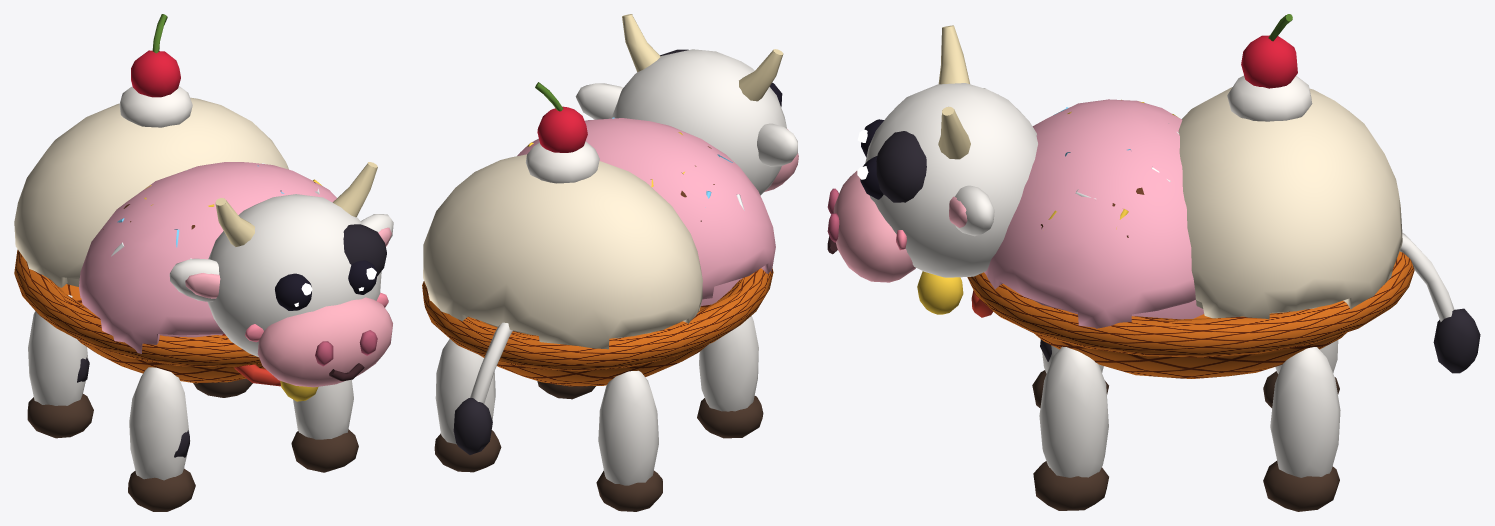
Rendered from pilot_ku_is_lav.glb.
3 renders of one model, left to right at view 1: azimuth 30°, elevation 25°; view 2: azimuth 150°, elevation 25°; view 3: azimuth 270°, elevation 25°, orthographic. The views are drawn at different scales.
Visible parts, largest first — view 1: kropp, hode, bein_vf, bein_vb, bein_hf, bein_hb; view 2: kropp, hode, bein_vb, bein_vf, bein_hb, hale, bein_hf; view 3: kropp, hode, bein_hf, bein_hb, hale, bein_vb.
Boxes of the visible parts, left/top/right/bottom form: kropp: left=14, top=14, right=336, bottom=383; hode: left=169, top=162, right=393, bottom=401; bein_vf: left=128, top=367, right=195, bottom=511; bein_vb: left=27, top=295, right=93, bottom=438; bein_hf: left=291, top=380, right=358, bottom=472; bein_hb: left=193, top=378, right=252, bottom=397; kropp: left=422, top=82, right=775, bottom=386; hode: left=575, top=14, right=798, bottom=195; bein_vb: left=596, top=370, right=662, bottom=511; bein_vf: left=697, top=316, right=763, bottom=438; bein_hb: left=434, top=339, right=501, bottom=472; hale: left=453, top=322, right=512, bottom=454; bein_hf: left=537, top=381, right=595, bottom=399; kropp: left=967, top=14, right=1414, bottom=378; hode: left=827, top=25, right=1037, bottom=317; bein_hf: left=1033, top=346, right=1108, bottom=510; bein_hb: left=1263, top=347, right=1340, bottom=511; hale: left=1400, top=233, right=1480, bottom=373; bein_vb: left=1263, top=340, right=1339, bottom=408.
Size of the model in its own units: 1 by 1.31 by 1.7.
Materials: 22 (1 with a texture image).
